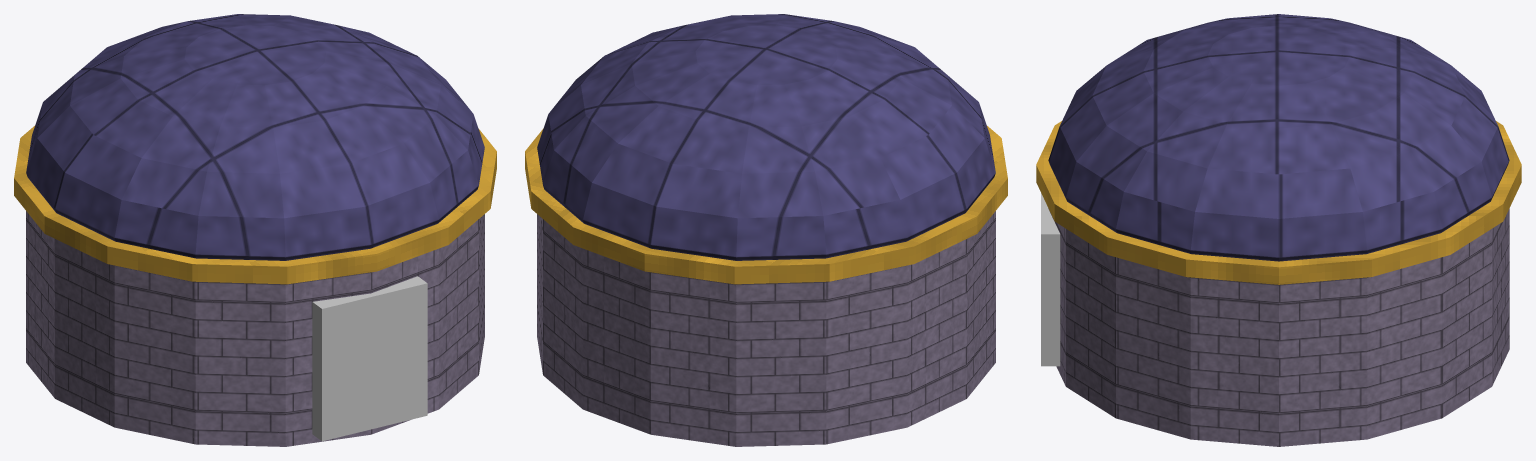
File: S2상점_마법금고.fbx
3 views of the same model, side by side, from view 1: azimuth 30°, elevation 25°; view 2: azimuth 150°, elevation 25°; view 3: azimuth 270°, elevation 25° (orthographic).
Visible parts, largest first — view 1: Sphere, Cylinder, Cube, Cylinder.001; view 2: Sphere, Cylinder, Cylinder.001; view 3: Sphere, Cylinder, Cylinder.001, Cube.
Part boxes in pixels (x1,y1,x2,y2): Sphere: (26,14,484,260); Cylinder: (26,211,484,446); Cube: (312,276,427,441); Cylinder.001: (14,126,496,284); Sphere: (537,14,995,260); Cylinder: (537,211,995,446); Cylinder.001: (525,126,1007,284); Sphere: (1048,14,1509,261); Cylinder: (1048,208,1509,446); Cylinder.001: (1036,121,1521,284); Cube: (1041,193,1060,366).
Size of the model in its own units: 2 by 1.36 by 2.
